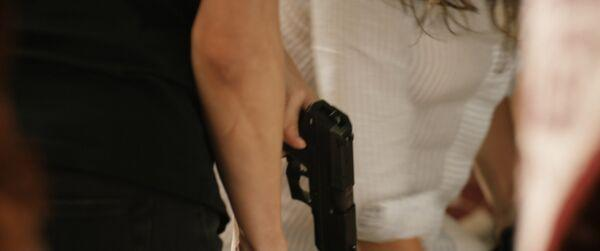Gun: (283, 100, 358, 251)
